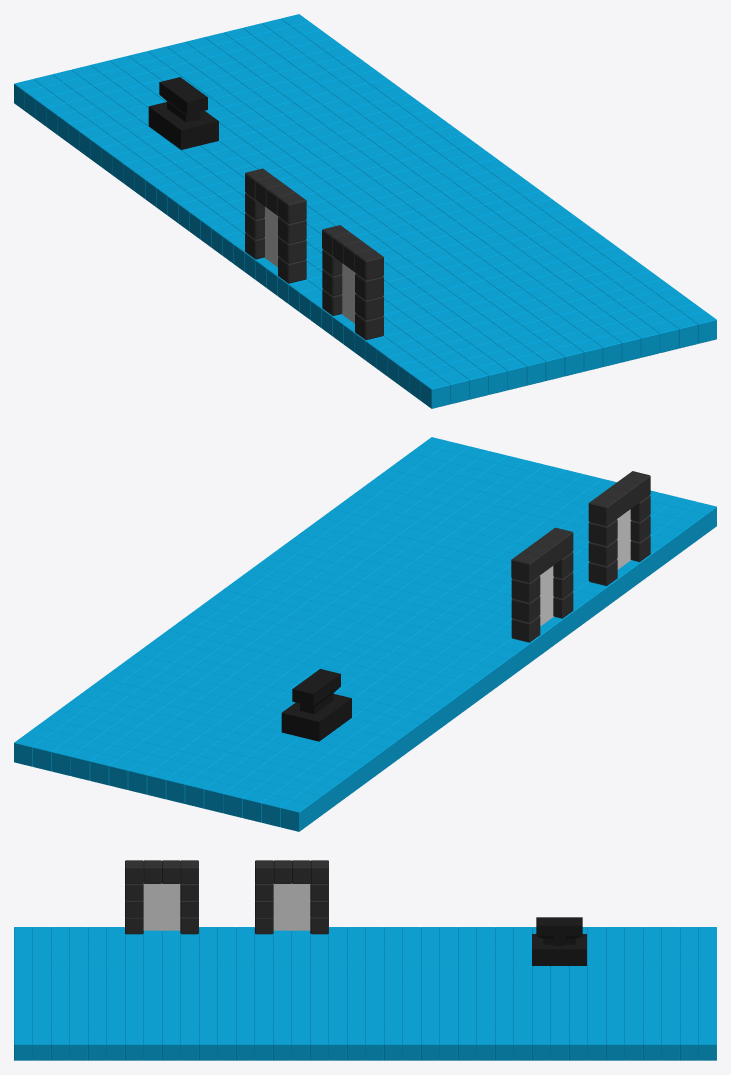
File: STARTSCENE.fbx
3 renders of one model, top to bottom at view 1: azimuth 30°, elevation 25°; view 2: azimuth 150°, elevation 25°; view 3: azimuth 270°, elevation 25°, orthographic. The views are drawn at different scales.
Visible parts, largest first — view 1: FLOOR, PORTALF01, PORTALF02, Cube, PORTAL02, PORTAL01; view 2: FLOOR, PORTALF02, PORTALF01, Cube, PORTAL01, PORTAL02; view 3: FLOOR, PORTALF01, PORTALF02, Cube, PORTAL01, PORTAL02.
Boxes of the visible parts, x1,y1,x2,y2 form: FLOOR: (14,14,716,408); PORTALF01: (322,225,383,340); PORTALF02: (245,168,306,283); Cube: (148,77,218,149); PORTAL02: (264,207,278,267); PORTAL01: (341,263,355,323); FLOOR: (14,437,716,831); PORTALF02: (511,527,573,642); PORTALF01: (588,471,650,585); Cube: (281,669,351,741); PORTAL01: (617,509,631,569); PORTAL02: (539,566,553,626); FLOOR: (14,927,716,1060); PORTALF01: (125,860,198,934); PORTALF02: (255,860,328,934); Cube: (532,917,586,966); PORTAL01: (143,883,180,930); PORTAL02: (273,883,310,930).
Bounding box in the file's own units: 3000 × 1000 × 7600.
